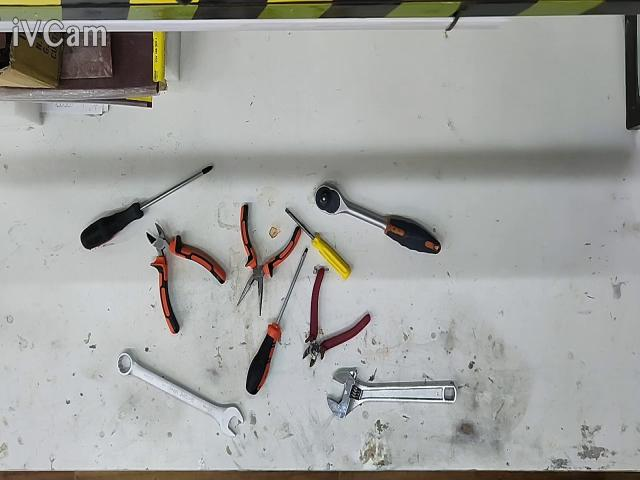Adjustable spanner: (327, 369, 456, 418)
Cutting pliers: (146, 223, 226, 335), (302, 268, 371, 367)
Needle-nose pliers: (236, 205, 301, 317)
Ratchet: (315, 185, 441, 254)
Screwdriver: (79, 166, 212, 248), (244, 247, 308, 393), (285, 207, 350, 278)
Wrench: (116, 352, 243, 437)
